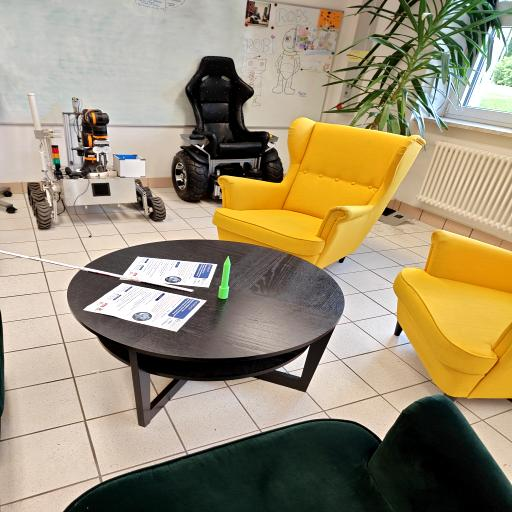Probe-Detection: (218, 256, 230, 299)
